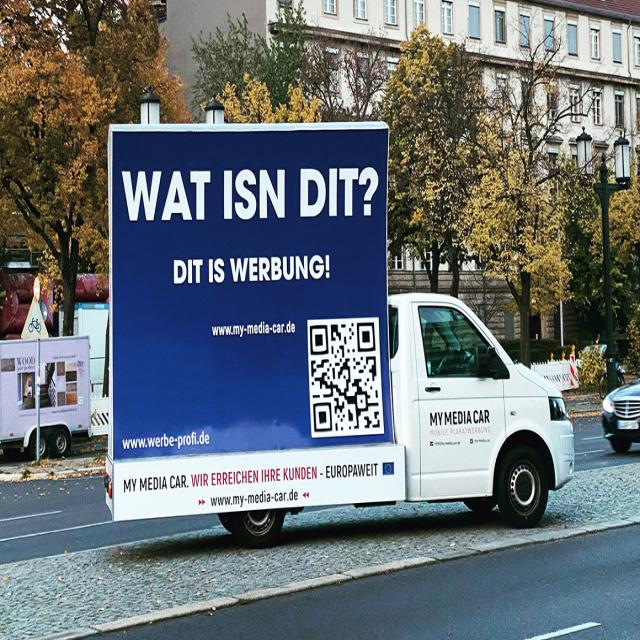Werbetafel frei: (104, 115, 400, 463)
